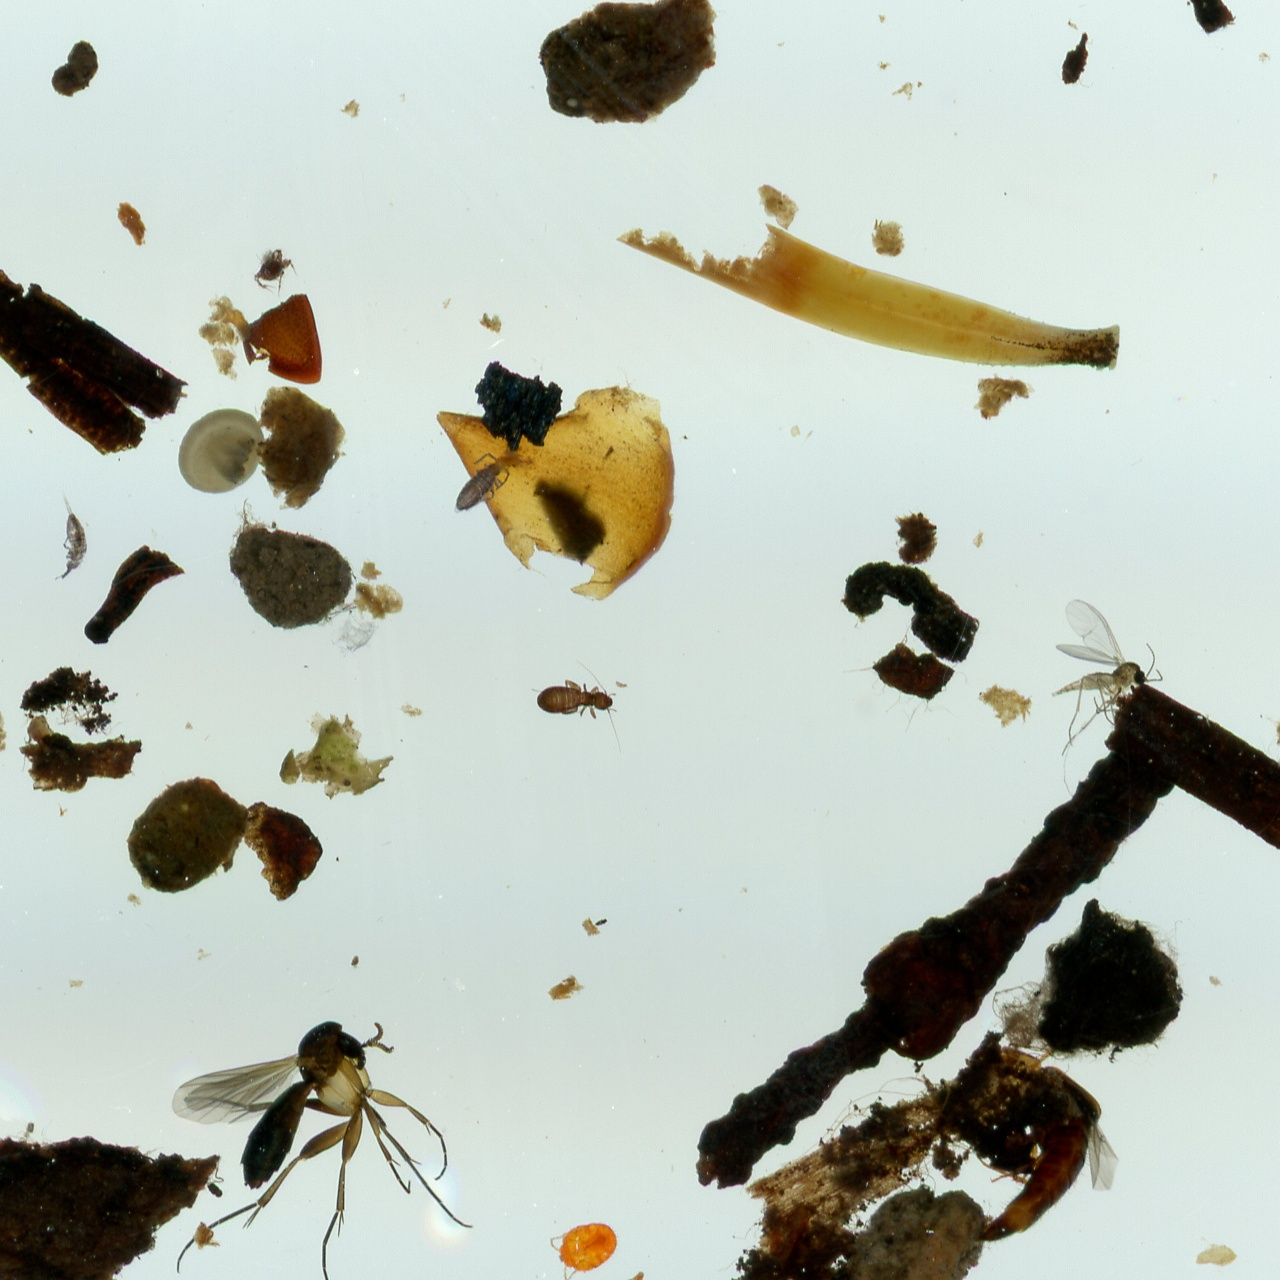arthropod: (169, 1019, 474, 1280), (961, 1035, 1125, 1252), (1047, 596, 1164, 763), (437, 440, 524, 530), (532, 657, 618, 744), (548, 1216, 621, 1280), (50, 487, 92, 587), (252, 245, 298, 297)
